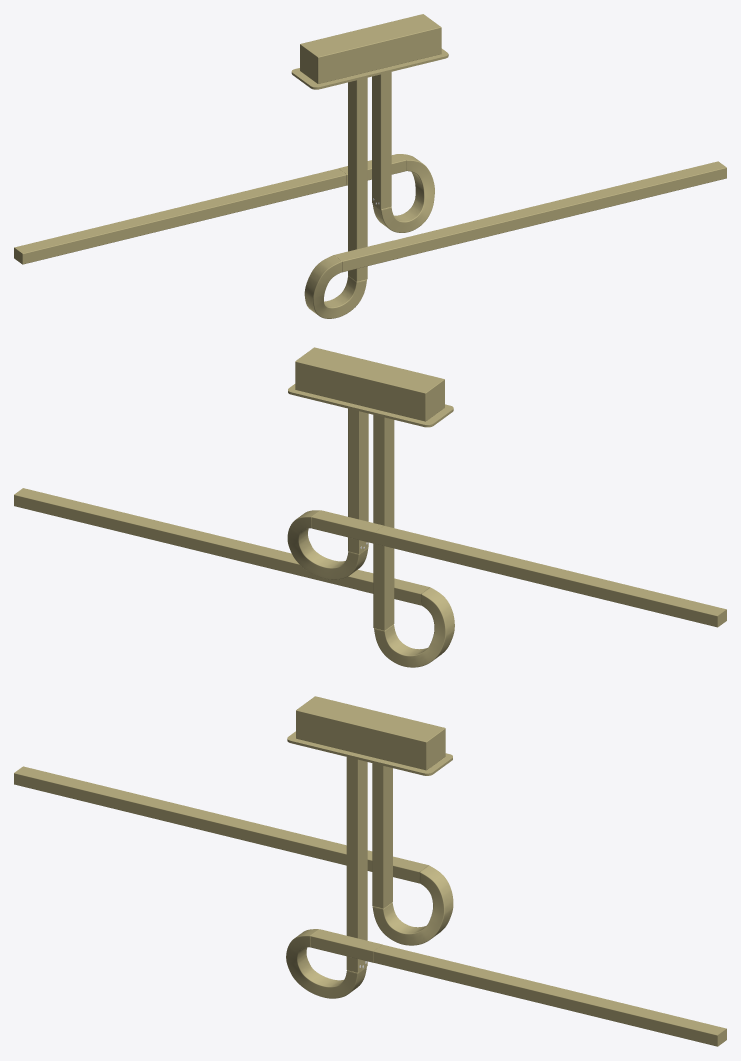
3 renders of one model, top to bottom at view 1: azimuth 30°, elevation 25°; view 2: azimuth 150°, elevation 25°; view 3: azimuth 330°, elevation 25°, orthographic. The views are drawn at different scales.
Parts seen in each view (by area): view 1: 3DSMeshMatrix (×8); view 2: 3DSMeshMatrix (×8); view 3: 3DSMeshMatrix (×8).
Part boxes in pixels (box(x1,y1,x2,y2)): 3DSMeshMatrix (×8): box(14, 14, 726, 318); 3DSMeshMatrix (×8): box(14, 347, 726, 667); 3DSMeshMatrix (×8): box(14, 696, 726, 1046).
Size of the model in its own units: 1 by 0.3755 by 0.0719.
